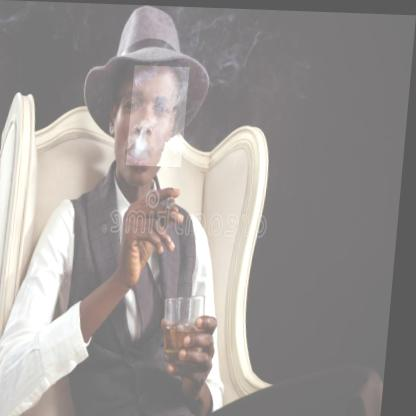smoke: (129, 64, 191, 166)
